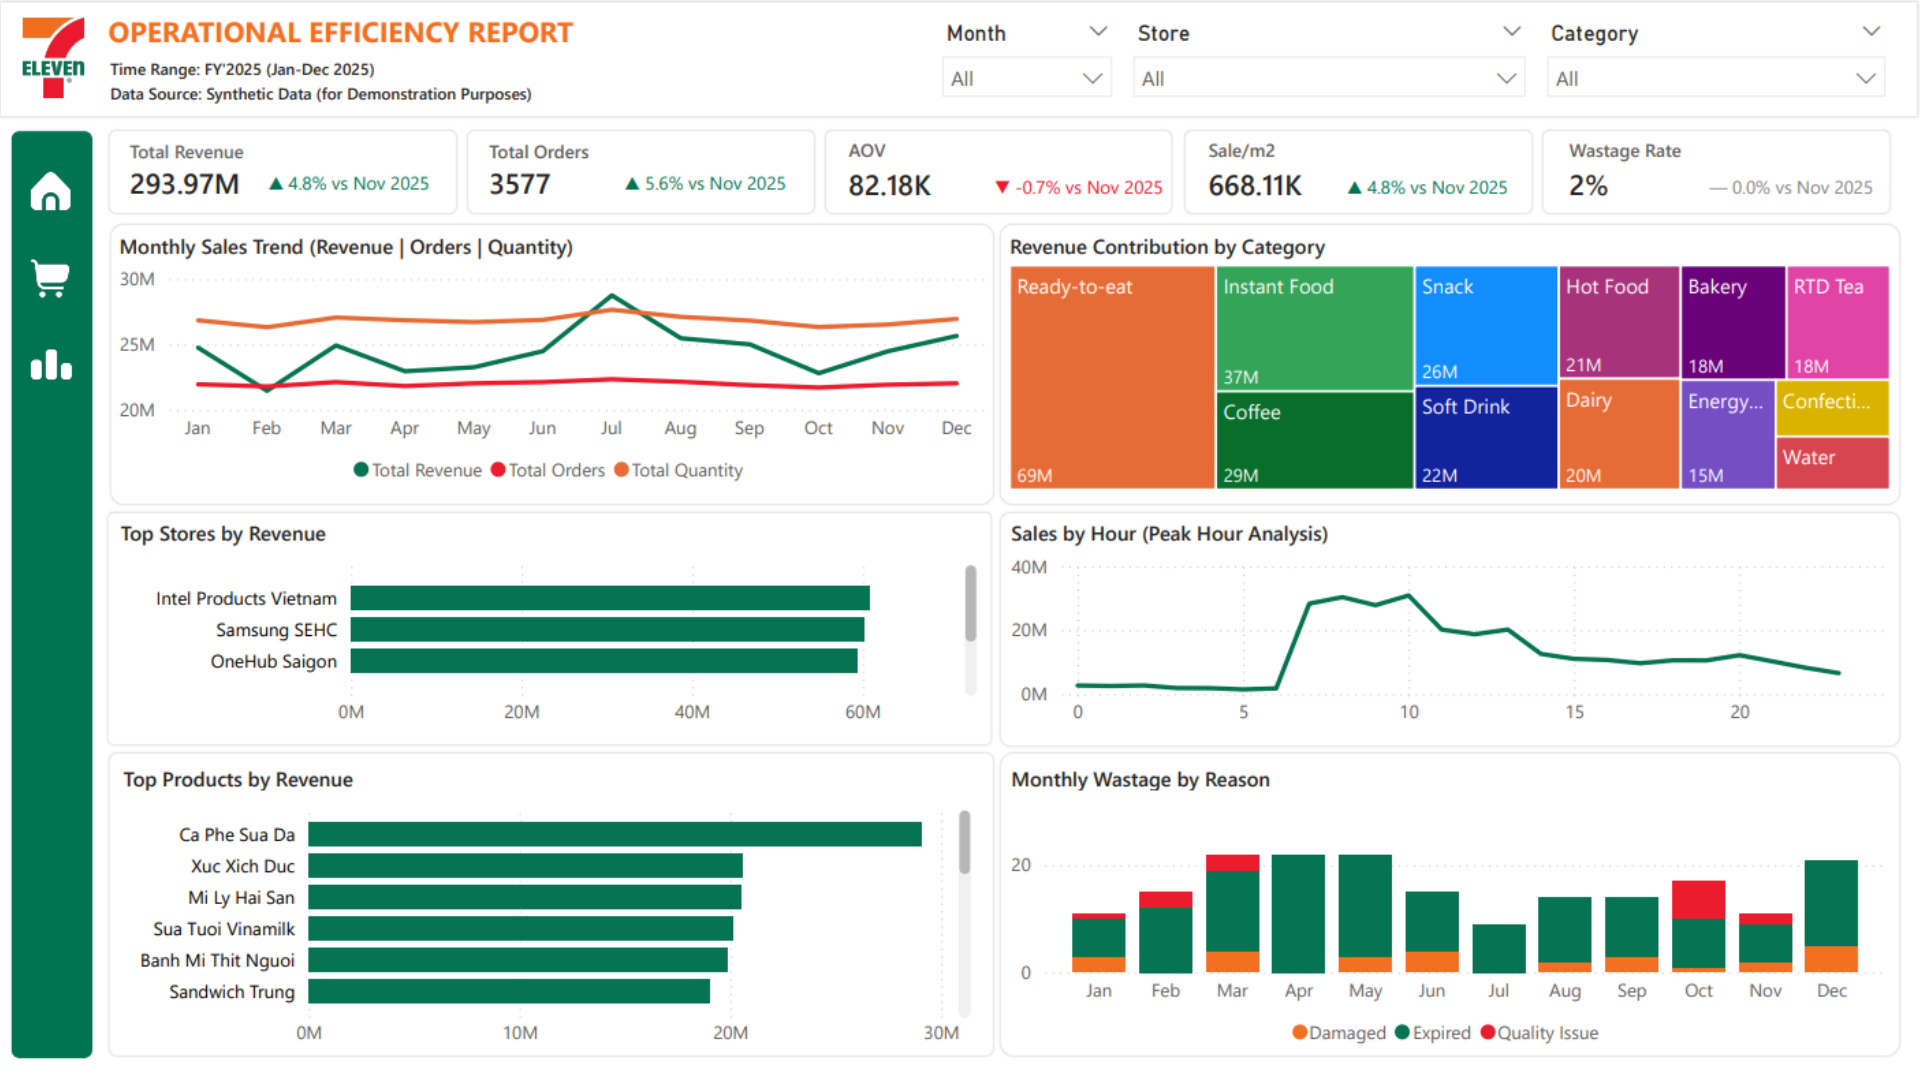

Layout of this report page (visuals, bound fields, positions):
{"tool":"powerbi","page":{"name":"Overview","canvas":[1280,720],"ordinal":0},"visuals":[{"type":"shape","box":[73.7,148.9,591.5,190.4],"z":0},{"type":"shape","box":[787.7,85.6,235,60],"z":1000},{"type":"shape","box":[72.6,85.6,235,60],"z":2000},{"type":"shape","box":[310.9,85.6,235,60],"z":3000},{"type":"shape","box":[549.3,85.6,235,60],"z":4000},{"type":"shape","box":[1026,85.8,234.8,60],"z":5000},{"type":"shape","box":[0,0,1280.4,80.7],"z":6000},{"type":"image","box":[11.1,14.1,53.5,51.5],"z":7000},{"type":"textbox","box":[74.7,10.1,353.5,31.3],"z":8000},{"type":"cardVisual","fields":{"Data":["7_eleven fact_transaction.Total Revenue"]},"box":[64.5,79.1,160.3,71.6],"z":9000},{"type":"shape","box":[8.1,85.6,58.9,622.2],"z":10000},{"type":"cardVisual","fields":{"Data":["7_eleven fact_transaction.Total Orders"]},"box":[303.8,79.1,160.3,71.6],"z":11000},{"type":"cardVisual","fields":{"Data":["7_eleven fact_transaction.AOV"]},"box":[543,79.1,160.3,71.6],"z":12000},{"type":"cardVisual","fields":{"Data":["7_eleven fact_wastage.Wastage Rate"]},"box":[1021.6,79,159.1,71.6],"z":13000},{"type":"shape","box":[72.1,339.6,591.5,159.6],"z":14000},{"type":"shape","box":[664.9,340.4,603.2,159.6],"z":15000},{"type":"lineChart","title":"Monthly Sales Trend (Revenue | Orders | Quantity)","fields":{"Category":["7_eleven fact_transaction.MonthShort"],"Y":["7_eleven fact_transaction.Total Revenue"],"Y2":["7_eleven fact_transaction.Total Orders","7_eleven fact_transaction.Total Quantity"]},"box":[76.9,156.4,585.1,175.5],"z":16000},{"type":"shape","box":[664.6,148.9,603.2,190.4],"z":17000},{"type":"treemap","title":"Revenue Contribution by Category","fields":{"Group":["7_eleven dim_product.category"],"Values":["7_eleven fact_transaction.Total Revenue"]},"box":[668.9,156.4,594.7,175.5],"z":18000},{"type":"clusteredBarChart","title":"Top Stores by Revenue","fields":{"Category":["7_eleven dim_store.store_name"],"Y":["7_eleven fact_transaction.Total Revenue"]},"box":[77.7,346.8,579.8,145.7],"z":19000},{"type":"shape","box":[73.4,500,591.5,206.4],"z":20000},{"type":"shape","box":[664.9,500,603.2,206.4],"z":21000},{"type":"lineChart","title":"Sales by Hour (Peak Hour Analysis)","fields":{"Category":["7_eleven fact_transaction.hour_only"],"Y":["7_eleven fact_transaction.Total Revenue"]},"box":[670.2,346.8,591.5,145.7],"z":22000},{"type":"clusteredBarChart","title":"Top Products by Revenue","fields":{"Category":["7_eleven dim_product.product_name"],"Y":["7_eleven fact_transaction.Total Revenue"]},"box":[80,510,573.3,196.7],"z":23000},{"type":"columnChart","title":"Monthly Wastage by Reason","fields":{"Category":["7_eleven fact_wastage.MonthShortWastage"],"Series":["7_eleven fact_wastage.waste_reason"],"Y":["7_eleven fact_wastage.Total Wastage"]},"box":[670.2,509.6,590.4,196.8],"z":24000},{"type":"cardVisual","fields":{"Data":["7_eleven fact_transaction.Display Revenue MoM%"]},"box":[157,95.4,183.5,53],"z":25000},{"type":"cardVisual","fields":{"Data":["7_eleven fact_transaction.Display Orders MoM%"]},"box":[394.5,95.4,183.5,53],"z":26000},{"type":"cardVisual","fields":{"Data":["7_eleven fact_transaction.Display Sales/m2 MoM%"]},"box":[873.9,96.6,183,53.4],"z":27000},{"type":"slicer","fields":{"Values":["7_eleven fact_transaction.MonthShort"]},"box":[623.9,16,122.7,53.4],"z":28000},{"type":"cardVisual","fields":{"Data":["7_eleven fact_transaction.Display Wastage MoM%"]},"box":[1114.8,96.6,164.8,53.4],"z":29000},{"type":"slicer","fields":{"Values":["7_eleven dim_store.store_name"]},"box":[751.1,16,270.5,53.4],"z":30000},{"type":"slicer","fields":{"Values":["7_eleven dim_product.category"]},"box":[1026.1,16,235.2,53.4],"z":31000},{"type":"cardVisual","fields":{"Data":["7_eleven fact_transaction.Sale/m2"]},"box":[782.3,79.1,160.3,71.6],"z":32000},{"type":"cardVisual","fields":{"Data":["7_eleven fact_transaction.Display AOV MoM%"]},"box":[639.8,96.6,183,53.4],"z":33000},{"type":"image","box":[17.6,116.2,37.4,25.3],"z":34000},{"type":"image","box":[17.8,173.7,37,25.3],"z":35000},{"type":"image","box":[17.6,231.3,37.4,25.3],"z":36000},{"type":"textbox","box":[71,32,300,60],"z":36001}]}

Visuals, with their boxes in screenshot pixels (x1, y1, x2, y2), scaled from the page's 1280x720 canvas onto the 1920x1080 screenshot:
shape: x1=111 y1=223 x2=998 y2=509
shape: x1=1182 y1=128 x2=1534 y2=218
shape: x1=109 y1=128 x2=461 y2=218
shape: x1=466 y1=128 x2=819 y2=218
shape: x1=824 y1=128 x2=1176 y2=218
shape: x1=1539 y1=129 x2=1891 y2=219
shape: x1=0 y1=0 x2=1919 y2=121
image: x1=17 y1=21 x2=97 y2=98
textbox: x1=112 y1=15 x2=642 y2=62
cardVisual - 7_eleven fact_transaction.Total Revenue: x1=97 y1=119 x2=337 y2=226
shape: x1=12 y1=128 x2=100 y2=1062
cardVisual - 7_eleven fact_transaction.Total Orders: x1=456 y1=119 x2=696 y2=226
cardVisual - 7_eleven fact_transaction.AOV: x1=814 y1=119 x2=1055 y2=226
cardVisual - 7_eleven fact_wastage.Wastage Rate: x1=1532 y1=118 x2=1771 y2=226
shape: x1=108 y1=509 x2=995 y2=749
shape: x1=997 y1=511 x2=1902 y2=750
"Monthly Sales Trend (Revenue | Orders | Quantity)" lineChart: x1=115 y1=235 x2=993 y2=498
shape: x1=997 y1=223 x2=1902 y2=509
"Revenue Contribution by Category" treemap: x1=1003 y1=235 x2=1895 y2=498
"Top Stores by Revenue" clusteredBarChart: x1=117 y1=520 x2=986 y2=739
shape: x1=110 y1=750 x2=997 y2=1060
shape: x1=997 y1=750 x2=1902 y2=1060
"Sales by Hour (Peak Hour Analysis)" lineChart: x1=1005 y1=520 x2=1893 y2=739
"Top Products by Revenue" clusteredBarChart: x1=120 y1=765 x2=980 y2=1060
"Monthly Wastage by Reason" columnChart: x1=1005 y1=764 x2=1891 y2=1060
cardVisual - 7_eleven fact_transaction.Display Revenue MoM%: x1=236 y1=143 x2=511 y2=223
cardVisual - 7_eleven fact_transaction.Display Orders MoM%: x1=592 y1=143 x2=867 y2=223
cardVisual - 7_eleven fact_transaction.Display Sales/m2 MoM%: x1=1311 y1=145 x2=1585 y2=225
slicer - 7_eleven fact_transaction.MonthShort: x1=936 y1=24 x2=1120 y2=104
cardVisual - 7_eleven fact_transaction.Display Wastage MoM%: x1=1672 y1=145 x2=1919 y2=225
slicer - 7_eleven dim_store.store_name: x1=1127 y1=24 x2=1532 y2=104
slicer - 7_eleven dim_product.category: x1=1539 y1=24 x2=1892 y2=104
cardVisual - 7_eleven fact_transaction.Sale/m2: x1=1173 y1=119 x2=1414 y2=226
cardVisual - 7_eleven fact_transaction.Display AOV MoM%: x1=960 y1=145 x2=1234 y2=225
image: x1=26 y1=174 x2=82 y2=212
image: x1=27 y1=261 x2=82 y2=298
image: x1=26 y1=347 x2=82 y2=385
textbox: x1=106 y1=48 x2=556 y2=138
